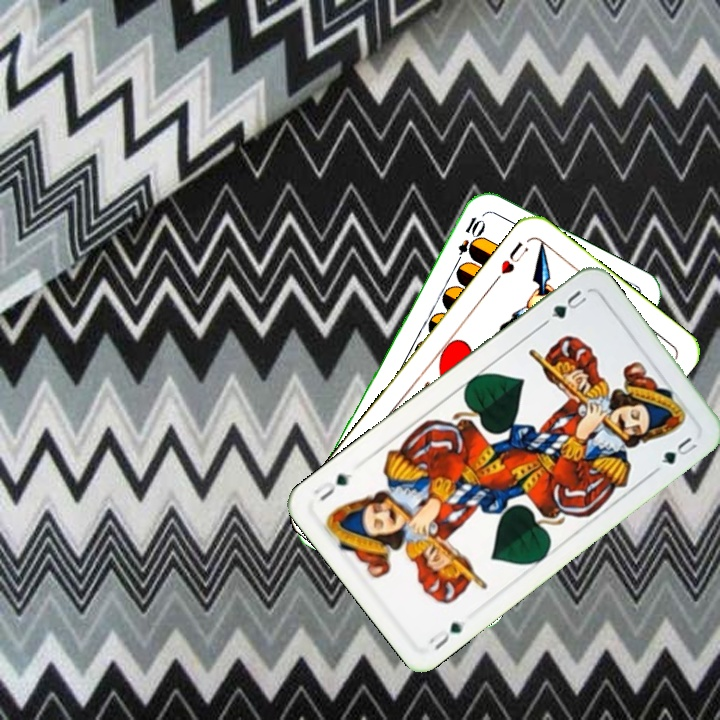E10: (451, 212, 488, 270)
GU: (539, 285, 590, 327), (424, 618, 465, 653)
HU: (490, 237, 531, 285)
